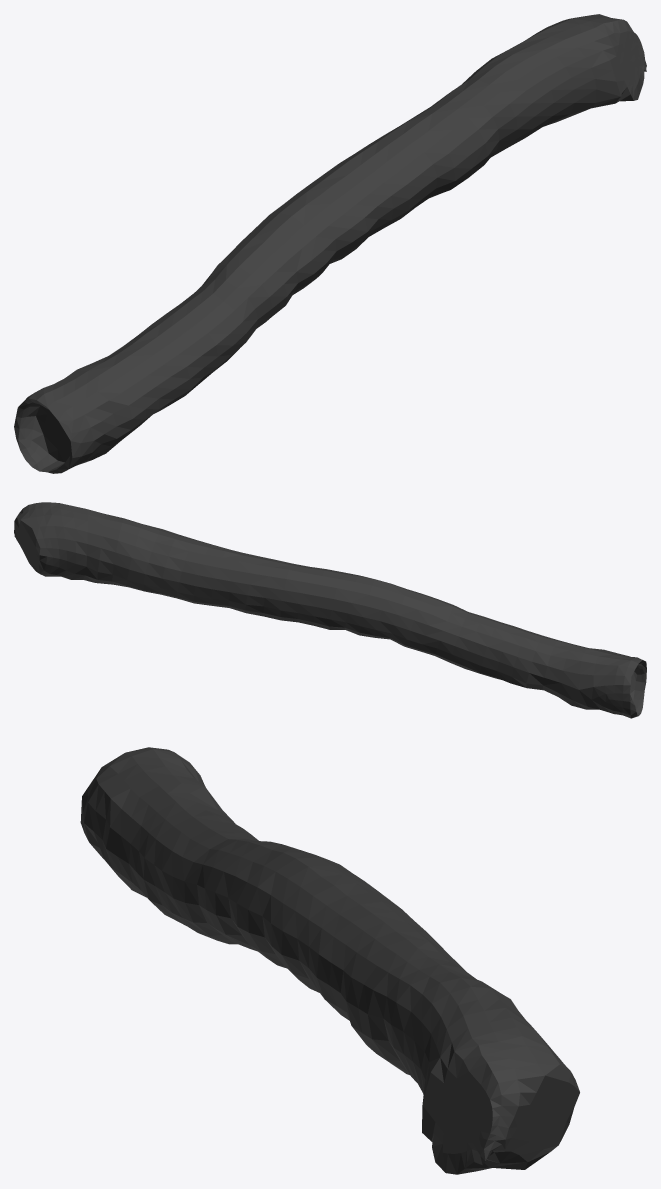
The model's file is Trachea.glb.
The picture shows the model from 3 angles, top to bottom: view 1: azimuth 30°, elevation 25°; view 2: azimuth 150°, elevation 25°; view 3: azimuth 270°, elevation 25°; orthographic projection. The views are drawn at different scales.
Parts seen in each view (by area): view 1: Trachea; view 2: Trachea; view 3: Trachea.
Boxes of the visible parts, bbox=[...] form: Trachea: bbox=[14, 14, 646, 473]; Trachea: bbox=[14, 502, 646, 718]; Trachea: bbox=[80, 747, 579, 1174].
Size of the model in its own units: 6.28 by 1.67 by 2.49.
Materials: 1 (1 with a texture image).
